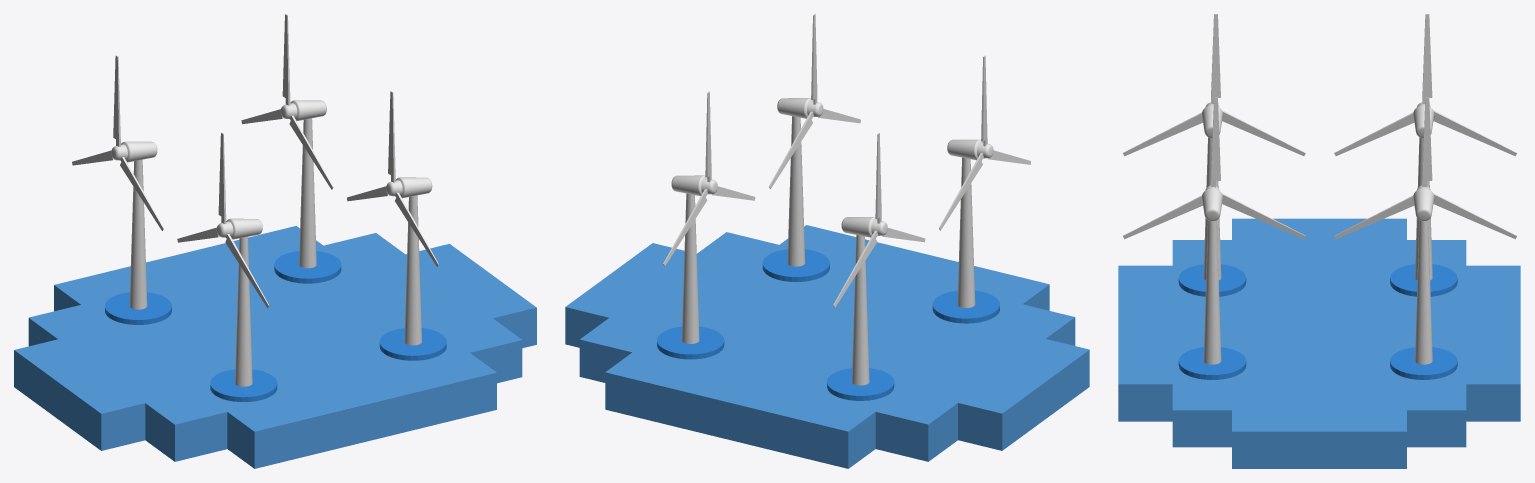
The model's file is ruzgartribun.fbx.
The picture shows the model from 3 angles, left to right: view 1: azimuth 30°, elevation 25°; view 2: azimuth 150°, elevation 25°; view 3: azimuth 270°, elevation 25°; orthographic projection.
Visible parts, largest first — view 1: zemin, direk.001, direk, direk.002, direk.003, pervane.002, pervane.003, pervane.004, pervane, motor.003, motor, motor.002 (+1 smaller); view 2: zemin, direk.002, direk.001, direk, direk.003, pervane.002, pervane.004, pervane, pervane.003, motor.002, motor.001, motor.003 (+1 smaller); view 3: zemin, direk, direk.001, direk.003, pervane.002, direk.002, pervane, pervane.004, pervane.003, motor.001, motor, motor.003 (+1 smaller).
Boxes of the visible parts, x1,y1,x2,y2 form: zemin: [14, 226, 536, 468]; direk.001: [274, 118, 341, 283]; direk: [379, 195, 446, 360]; direk.002: [210, 237, 277, 401]; direk.003: [105, 159, 171, 324]; pervane.002: [241, 14, 333, 189]; pervane.003: [177, 132, 269, 308]; pervane.004: [72, 55, 163, 230]; pervane: [347, 91, 438, 266]; motor.003: [111, 141, 157, 162]; motor: [386, 177, 432, 198]; motor.002: [216, 218, 262, 239]; zemin: [565, 225, 1089, 468]; direk.002: [932, 157, 999, 323]; direk.001: [657, 193, 724, 359]; direk: [762, 116, 829, 281]; direk.003: [827, 235, 894, 400]; pervane.002: [663, 91, 755, 266]; pervane.004: [833, 133, 925, 307]; pervane: [769, 14, 860, 188]; pervane.003: [939, 55, 1030, 230]; motor.002: [947, 139, 993, 160]; motor.001: [671, 175, 717, 196]; motor.003: [841, 217, 887, 237]; zemin: [1118, 218, 1520, 468]; direk: [1178, 220, 1246, 379]; direk.001: [1390, 220, 1457, 379]; direk.003: [1390, 137, 1457, 296]; pervane.002: [1334, 97, 1516, 239]; direk.002: [1178, 137, 1246, 296]; pervane: [1123, 97, 1305, 239]; pervane.004: [1334, 14, 1517, 156]; pervane.003: [1122, 14, 1305, 156]; motor.001: [1413, 185, 1434, 221]; motor: [1202, 185, 1222, 221]; motor.003: [1413, 102, 1434, 138].
Bounding box in the file's own units: 215 × 140 × 172.
